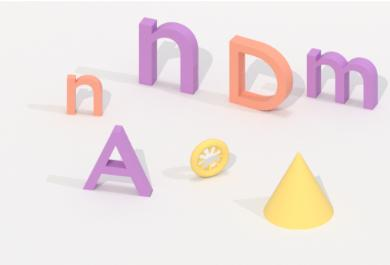0-TamGiac: (257, 145, 339, 233)
0-TronLo: (187, 135, 232, 181)
A: (79, 122, 154, 202)
D: (222, 31, 295, 115)
m: (300, 44, 383, 113)
n: (132, 12, 203, 97), (63, 68, 109, 122)
